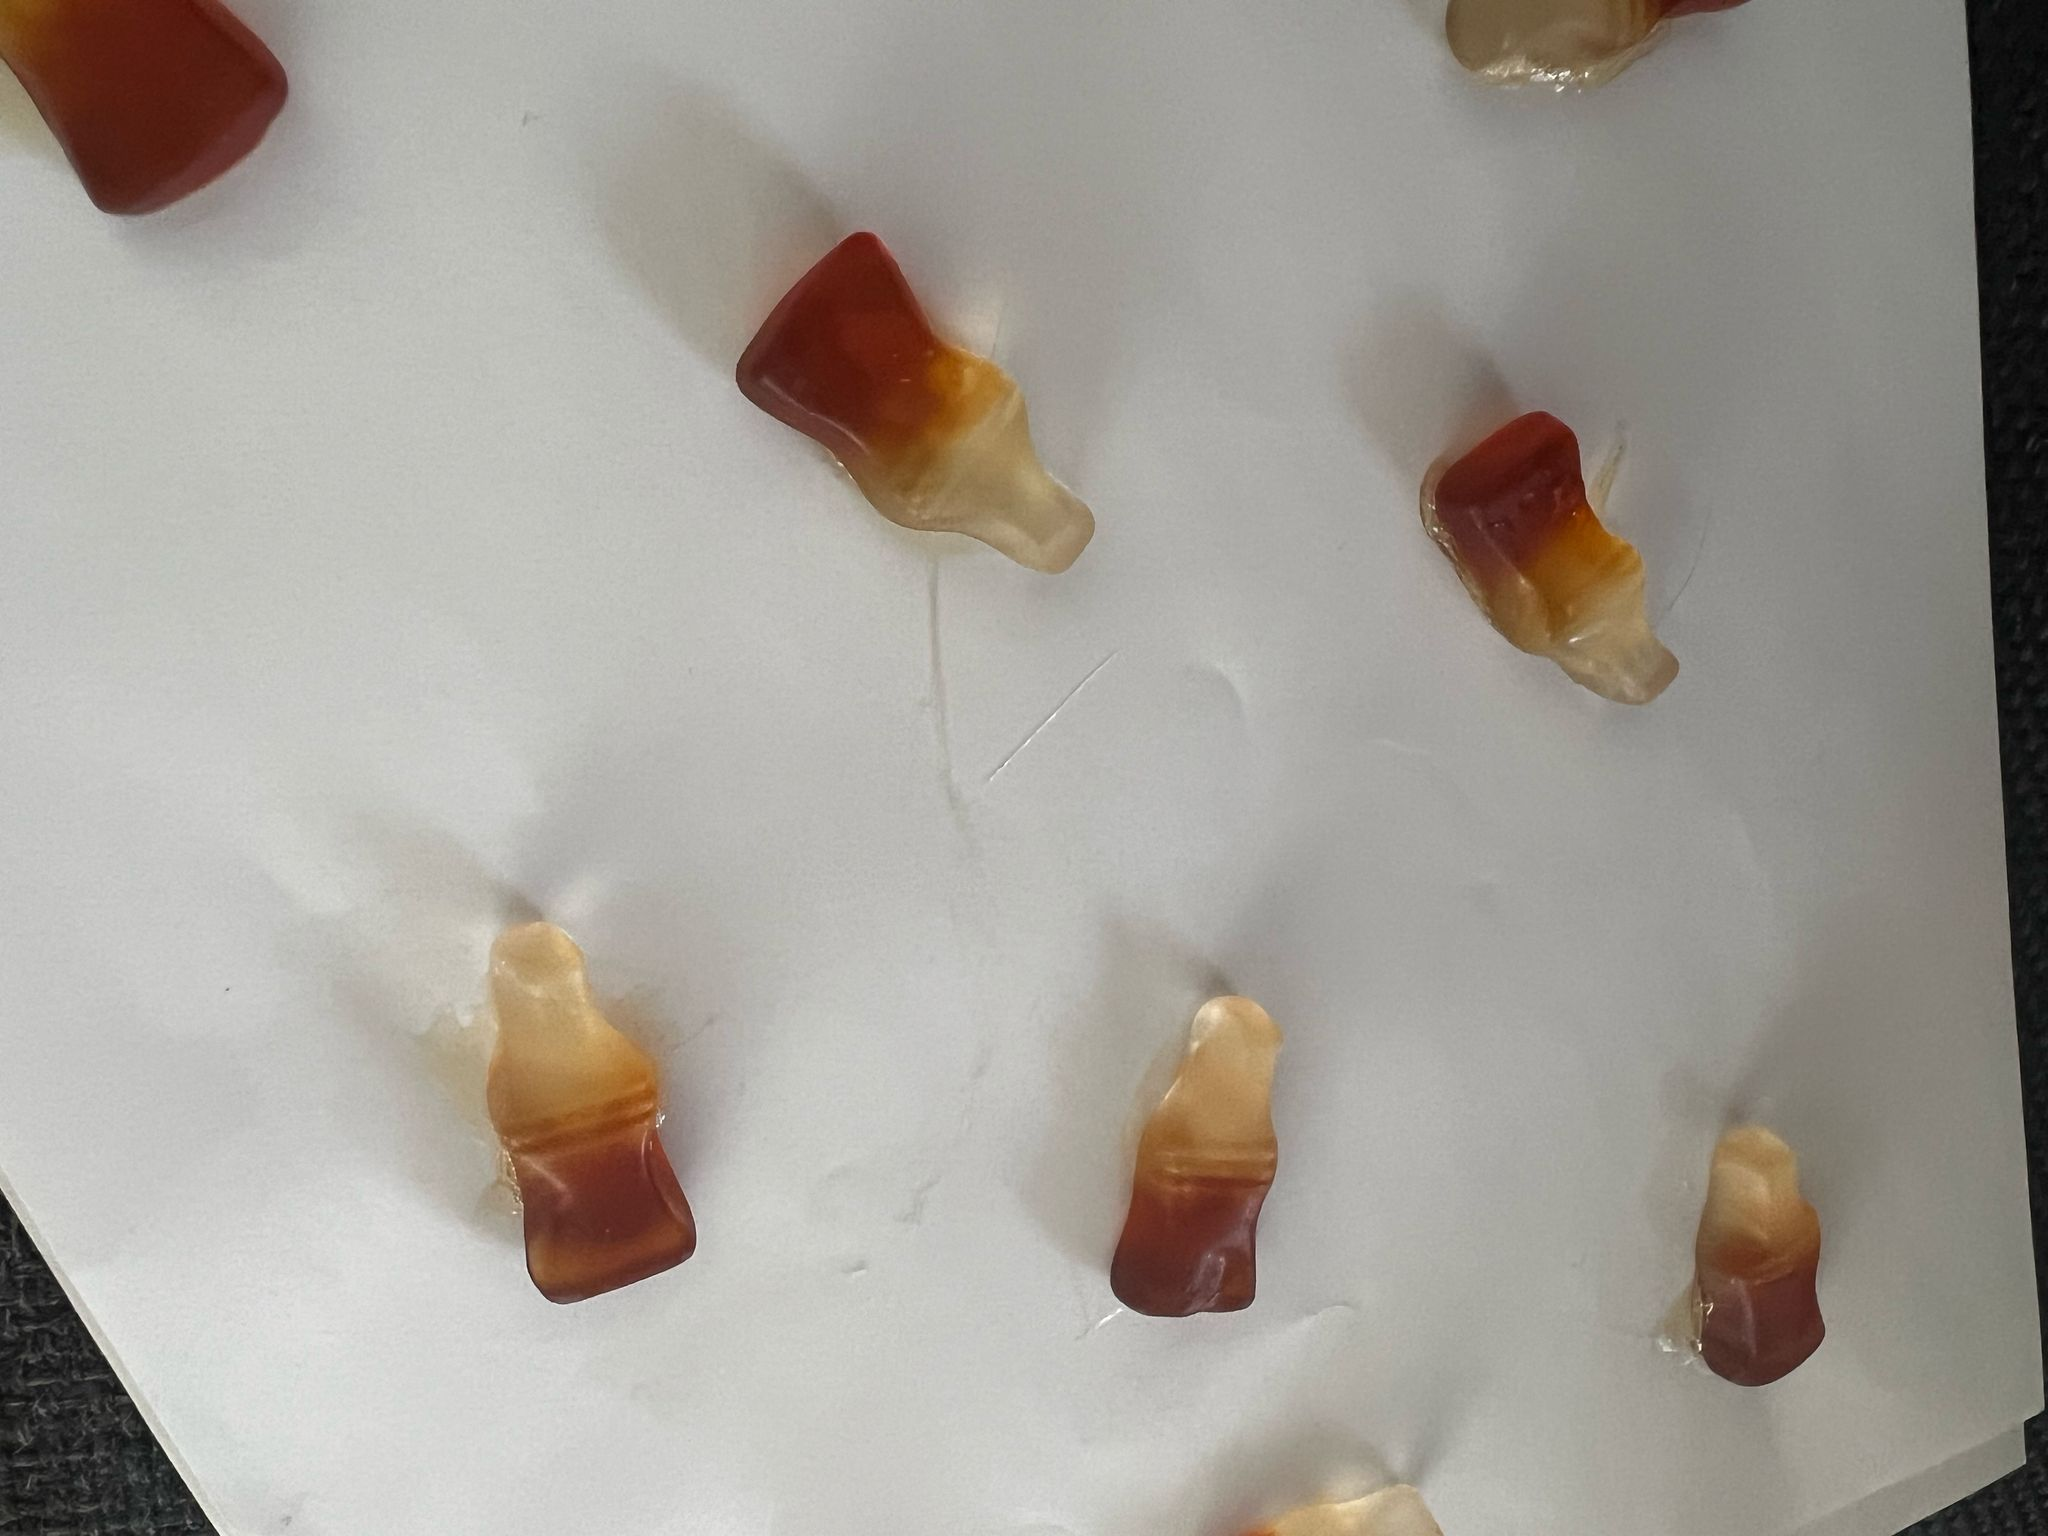cola: (722, 227, 1106, 589), (1416, 394, 1708, 721), (472, 912, 700, 1312), (1105, 971, 1285, 1329), (1687, 1105, 1837, 1397)
